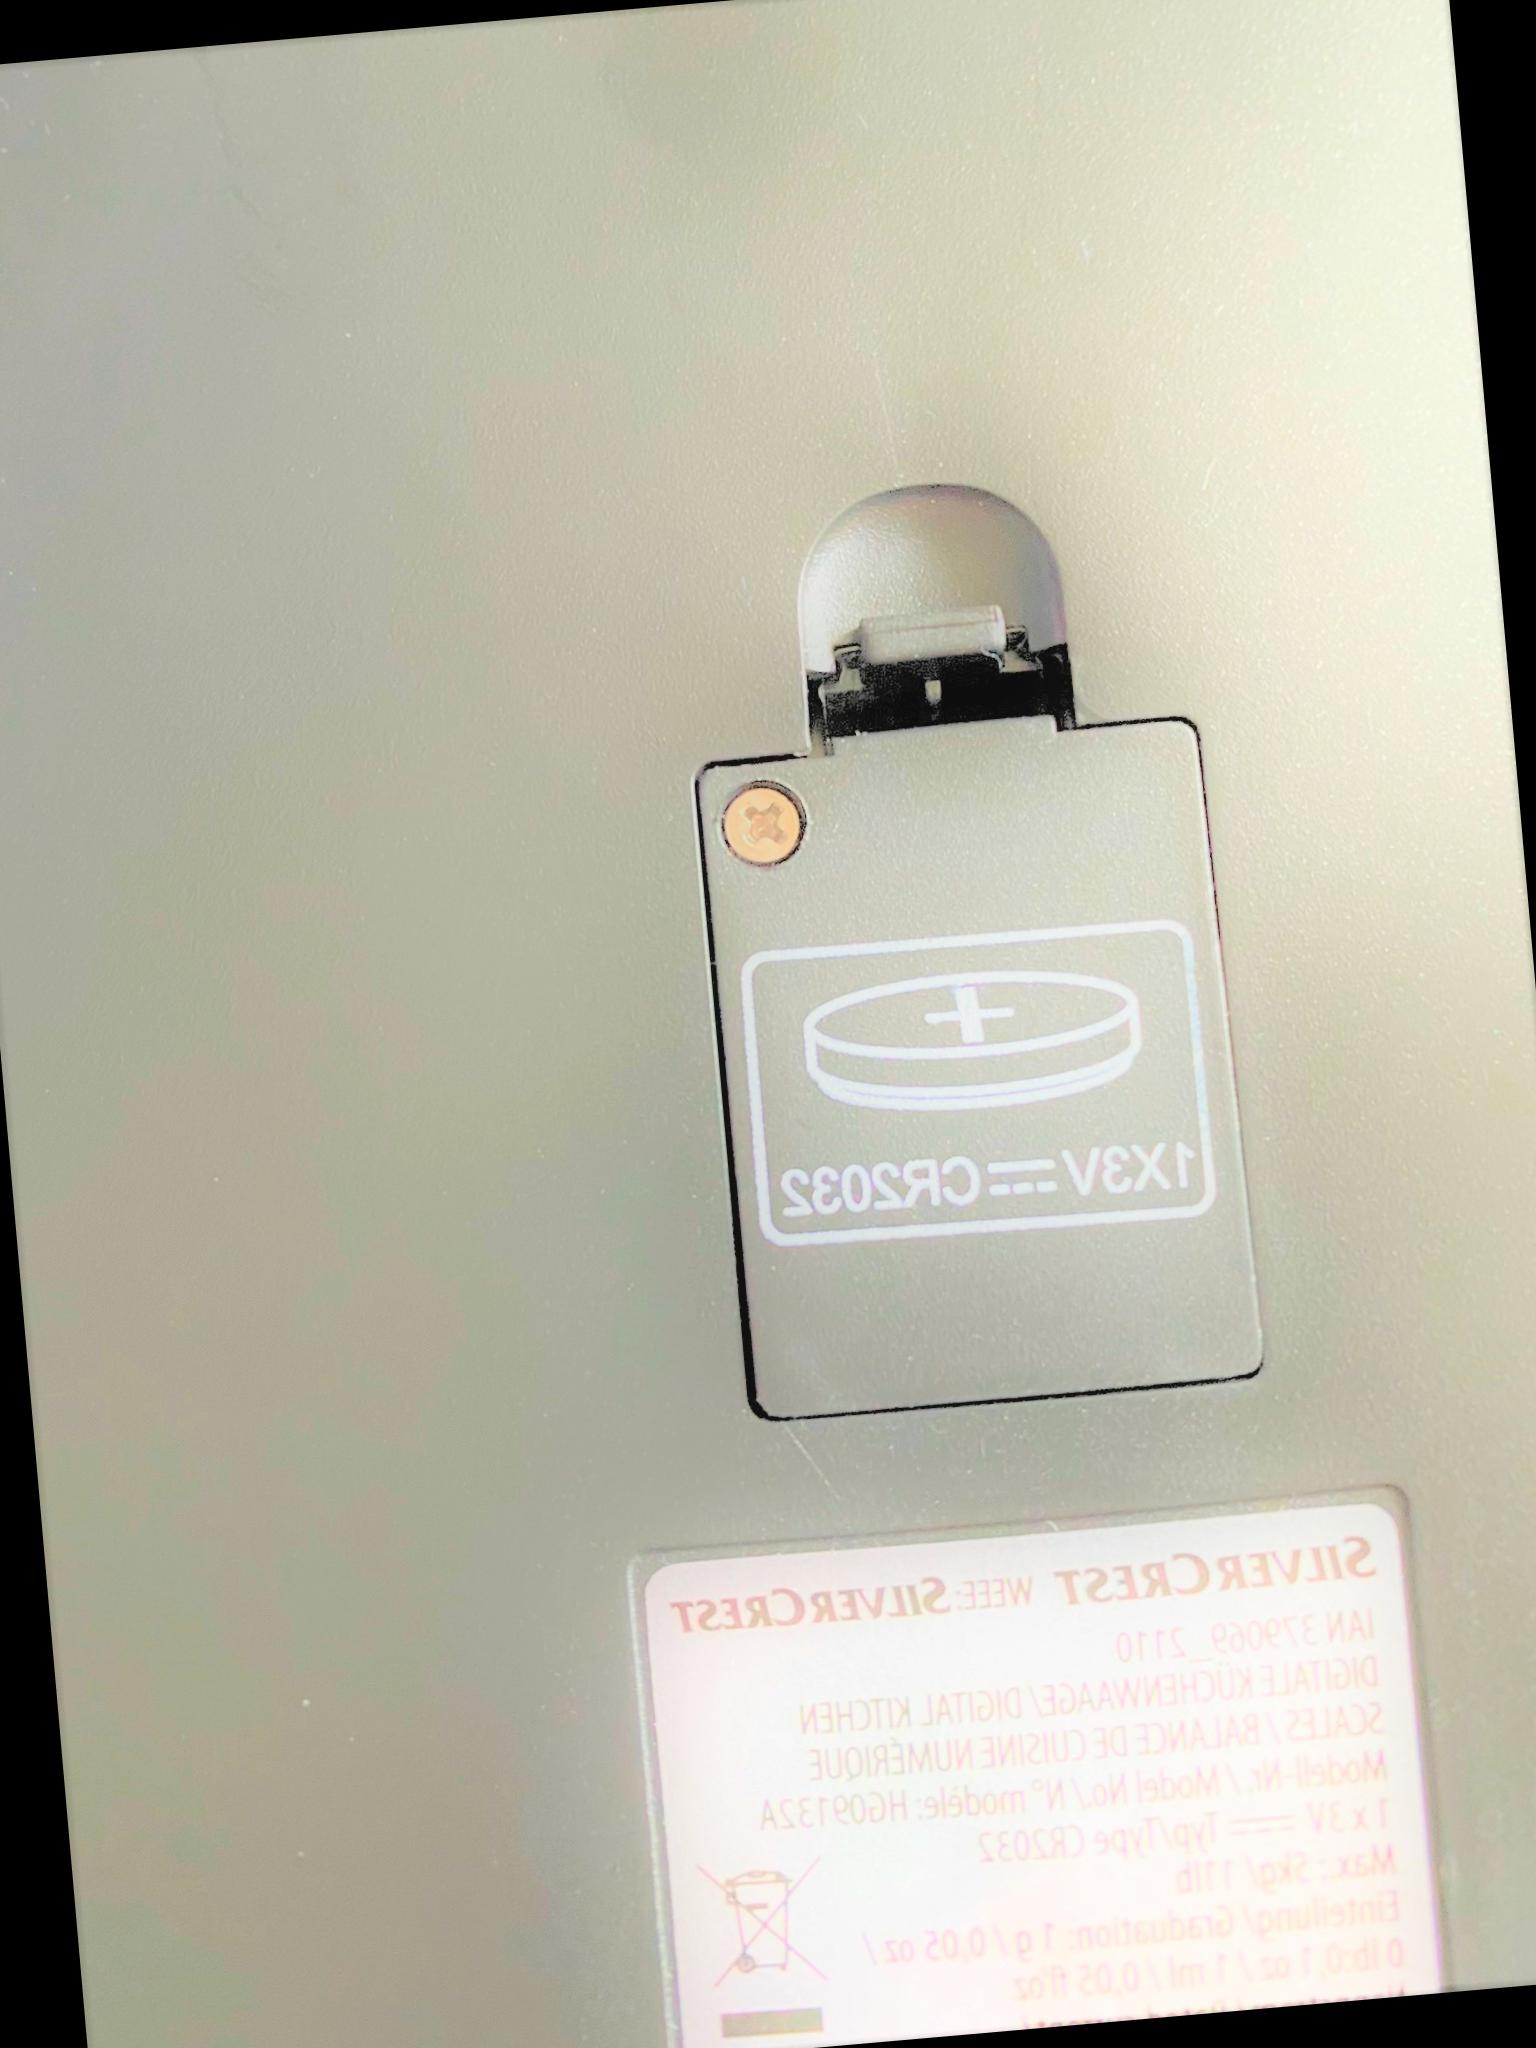PH: (713, 776, 812, 869)
